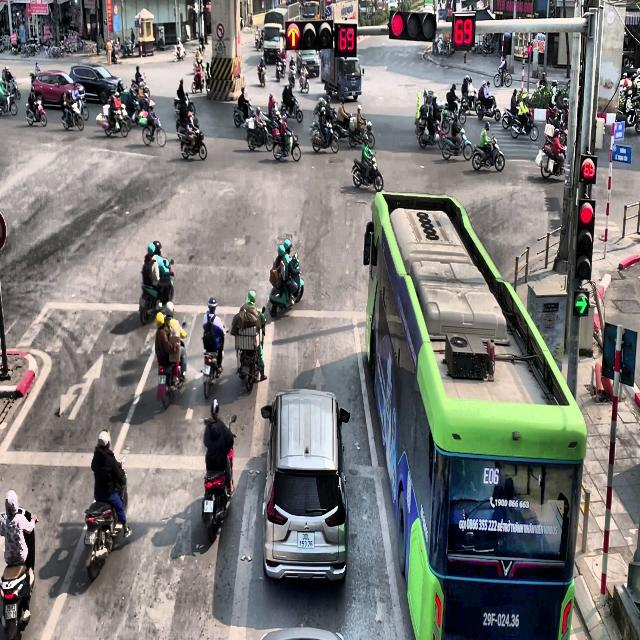BUS: (362, 190, 586, 639)
CAR: (260, 388, 350, 584), (69, 64, 122, 104), (31, 70, 85, 108)
MOTORBIKE: (84, 458, 130, 580), (0, 508, 37, 639), (201, 415, 237, 543), (235, 306, 266, 392), (268, 253, 304, 317), (156, 336, 187, 409), (139, 260, 174, 324), (201, 326, 228, 399), (472, 134, 505, 172), (540, 130, 566, 178), (352, 154, 383, 190), (244, 115, 274, 152), (101, 102, 131, 138), (177, 124, 207, 160), (442, 128, 473, 160), (310, 120, 339, 154), (273, 128, 301, 162), (616, 84, 638, 126), (510, 110, 539, 141), (348, 115, 375, 148), (61, 93, 84, 131), (142, 112, 166, 148), (418, 117, 444, 150), (25, 92, 47, 126), (475, 94, 500, 122), (0, 80, 18, 116), (280, 95, 303, 123), (443, 98, 466, 125), (233, 99, 255, 127), (2, 66, 20, 100), (174, 92, 195, 117), (460, 87, 478, 114), (494, 65, 512, 87), (502, 105, 519, 128), (191, 66, 204, 92), (299, 65, 309, 93), (276, 58, 286, 81), (257, 62, 266, 87), (205, 62, 212, 92), (172, 46, 185, 61), (288, 65, 295, 88), (255, 34, 263, 50)
TRAFFIC_LIGHT: (575, 197, 595, 281), (388, 9, 436, 41), (285, 19, 333, 50), (452, 12, 476, 48), (334, 22, 356, 56), (579, 154, 597, 184)
